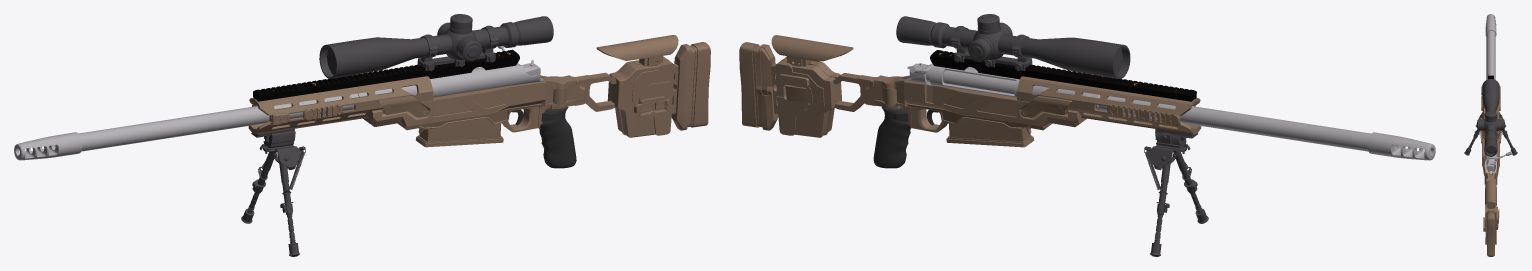
Rendered from Mc Millan_lp.fbx.
3 views of the same model, side by side, from view 1: azimuth 30°, elevation 25°; view 2: azimuth 150°, elevation 25°; view 3: azimuth 270°, elevation 25° (orthographic). The views are drawn at different scales.
Visible parts, largest first — view 1: Scope.1_low, Base.1_low, Handguard_low, Barrel.2_low, Butt.10_low, Base.5_low, Barrel.1_low, Handle_low, Butt.6_low, Butt.5_low, Barrel.3_low, Butt.1_low (+10 smaller); view 2: Scope.1_low, Base.1_low, Handguard_low, Barrel.2_low, Butt.9_low, Base.5_low, Handle_low, Butt.5_low, Barrel.3_low, Butt.1_low, Butt.3_low, Cartridge.1_low (+12 smaller); view 3: Scope.1_low, Barrel.2_low, Base.1_low, Butt.5_low, Butt.3_low, Scope.3_low, Barrel.3_low, Handguard_low, Butt.9_low, Barrel.1_low, Shutter.1_low, Butt.10_low (+9 smaller).
Part boxes in pixels (x1=…): Scope.1_low: x1=319, y1=16, x2=553, y2=78; Base.1_low: x1=363, y1=75, x2=576, y2=126; Handguard_low: x1=248, y1=76, x2=433, y2=134; Barrel.2_low: x1=78, y1=93, x2=358, y2=151; Butt.10_low: x1=613, y1=60, x2=674, y2=137; Base.5_low: x1=253, y1=49, x2=519, y2=101; Barrel.1_low: x1=358, y1=65, x2=544, y2=97; Handle_low: x1=539, y1=107, x2=576, y2=168; Butt.6_low: x1=671, y1=44, x2=695, y2=130; Butt.5_low: x1=690, y1=42, x2=710, y2=127; Barrel.3_low: x1=14, y1=132, x2=82, y2=160; Butt.1_low: x1=553, y1=59, x2=669, y2=135; Scope.1_low: x1=896, y1=16, x2=1130, y2=78; Base.1_low: x1=873, y1=75, x2=1086, y2=127; Handguard_low: x1=1016, y1=76, x2=1201, y2=134; Barrel.2_low: x1=1091, y1=93, x2=1370, y2=151; Butt.9_low: x1=775, y1=60, x2=837, y2=137; Base.5_low: x1=930, y1=50, x2=1196, y2=101; Handle_low: x1=873, y1=107, x2=910, y2=168; Butt.5_low: x1=739, y1=42, x2=759, y2=127; Barrel.3_low: x1=1367, y1=132, x2=1435, y2=160; Butt.1_low: x1=781, y1=59, x2=896, y2=135; Butt.3_low: x1=771, y1=35, x2=853, y2=61; Cartridge.1_low: x1=949, y1=118, x2=1030, y2=141; Scope.1_low: x1=1482, y1=79, x2=1499, y2=156; Barrel.2_low: x1=1486, y1=30, x2=1495, y2=79; Base.1_low: x1=1482, y1=123, x2=1499, y2=184; Butt.5_low: x1=1487, y1=213, x2=1494, y2=256; Butt.3_low: x1=1485, y1=179, x2=1496, y2=205; Scope.3_low: x1=1477, y1=111, x2=1504, y2=130; Barrel.3_low: x1=1485, y1=14, x2=1496, y2=36; Handguard_low: x1=1482, y1=79, x2=1499, y2=138; Butt.9_low: x1=1491, y1=203, x2=1498, y2=244; Barrel.1_low: x1=1484, y1=136, x2=1496, y2=174; Shutter.1_low: x1=1486, y1=156, x2=1502, y2=170; Butt.10_low: x1=1483, y1=203, x2=1490, y2=244.
Size of the model in its own units: 489 by 121 by 65.08.
